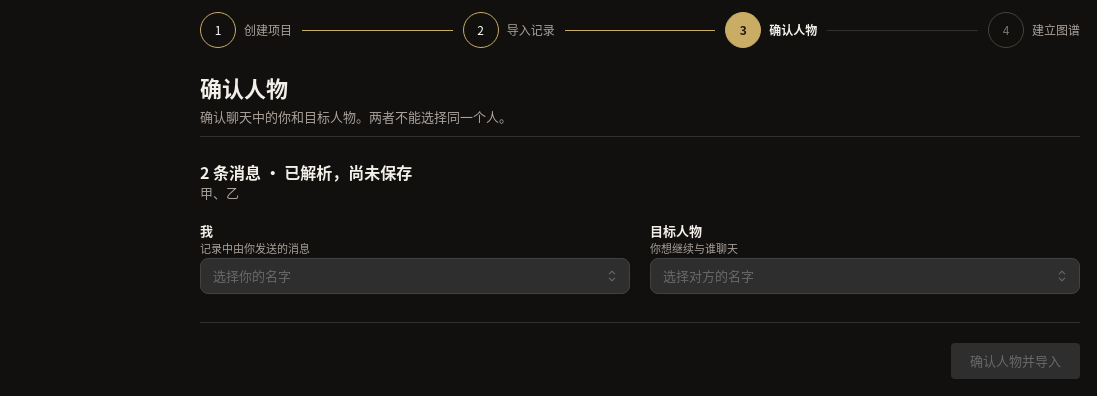
Test: 选一方自动补齐另一方，选定后仍可从两边交换并保存
This screenshot has width=1097, height=396.
Click the dropdown labelled "我" at coordinates (415, 276), box x1=200 y1=258 x2=630 y2=294
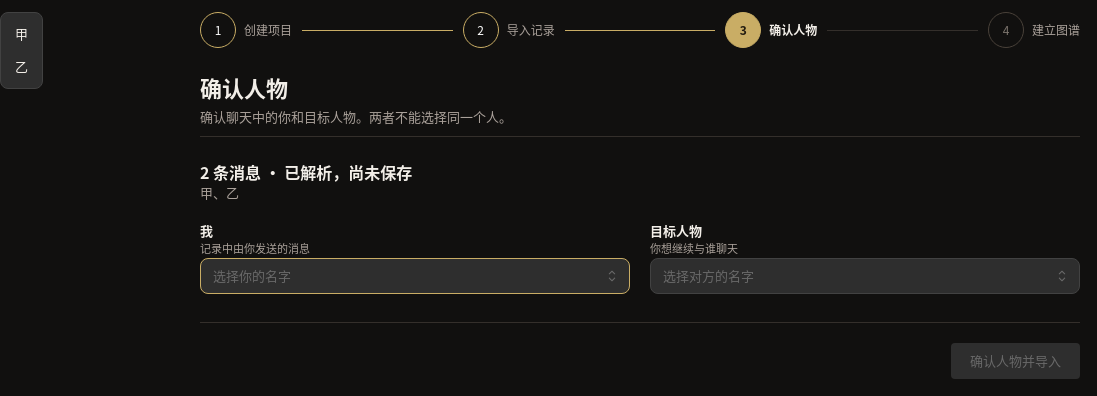
Click the option "甲" at coordinates (22, 34), box x1=15 y1=24 x2=28 y2=43
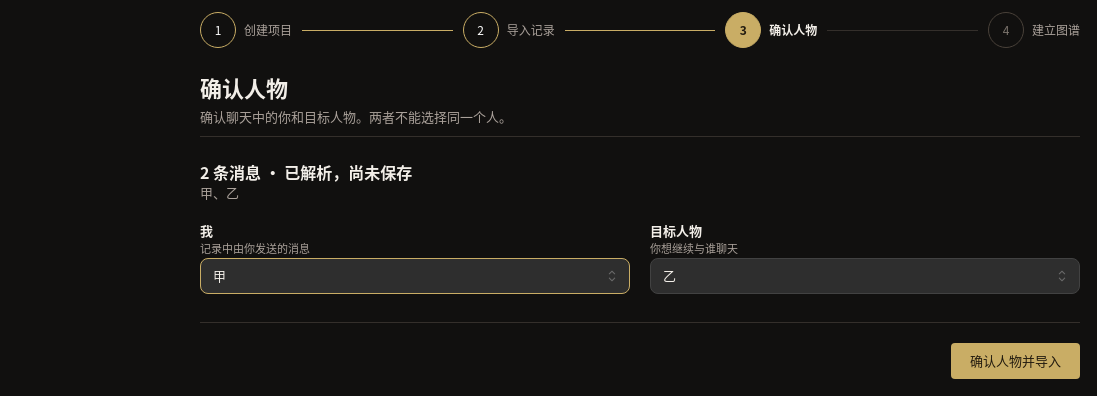
Expected: the dropdown labelled "目标人物" holds "乙"
Click the dropdown labelled "目标人物" at coordinates (865, 276), box x1=650 y1=258 x2=1080 y2=294
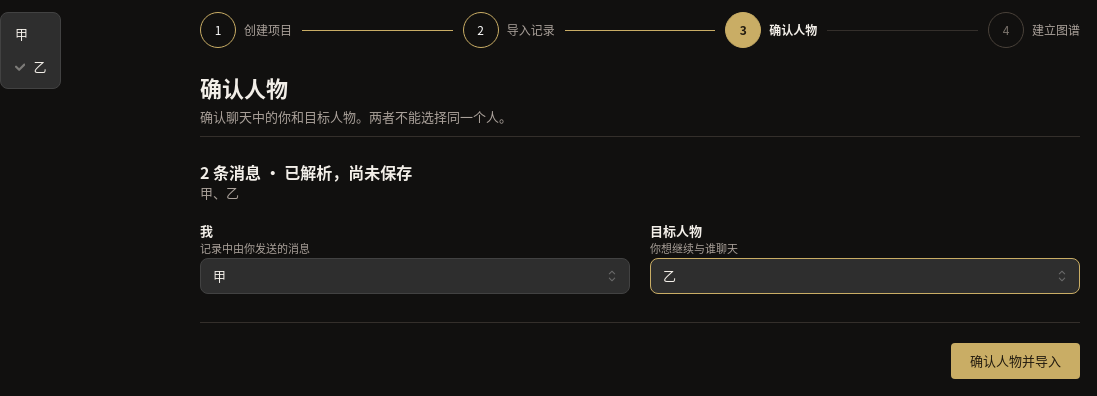
Click the option "甲" at coordinates (22, 34), box x1=15 y1=24 x2=28 y2=43
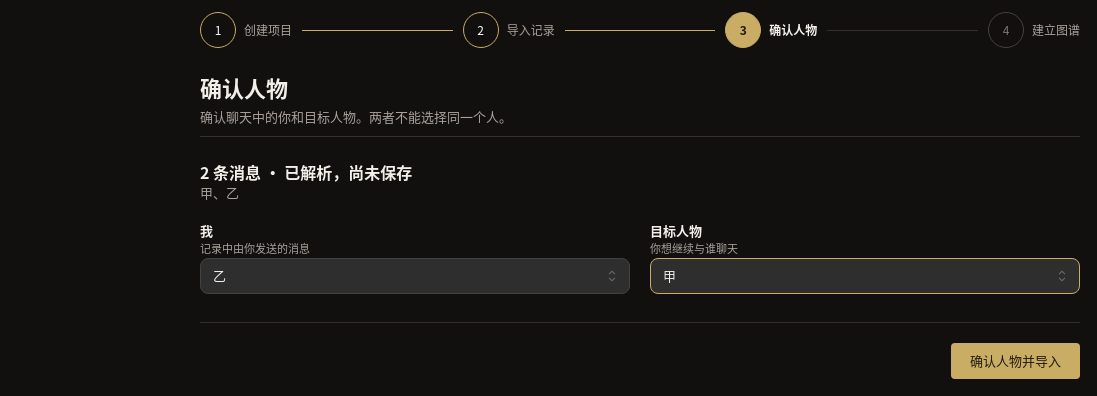
Expected: the dropdown labelled "我" holds "乙"
Expected: the dropdown labelled "目标人物" holds "甲", x1=650 y1=258 x2=1080 y2=294
Click the dropdown labelled "我" at coordinates (415, 276), box x1=200 y1=258 x2=630 y2=294
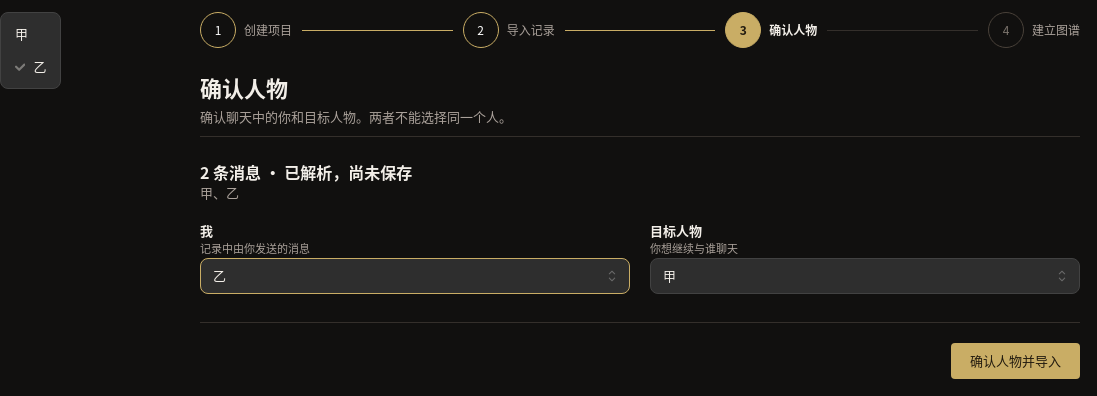
Click the option "甲" at coordinates (22, 34), box x1=15 y1=24 x2=28 y2=43
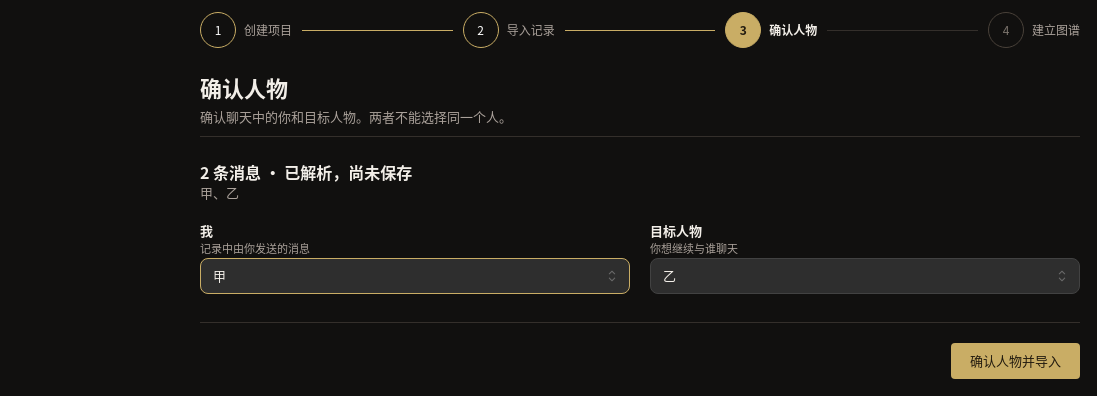
Expected: the button "确认人物并导入" is enabled, x1=951 y1=343 x2=1080 y2=379
Expected: the dropdown labelled "目标人物" holds "乙", x1=650 y1=258 x2=1080 y2=294
